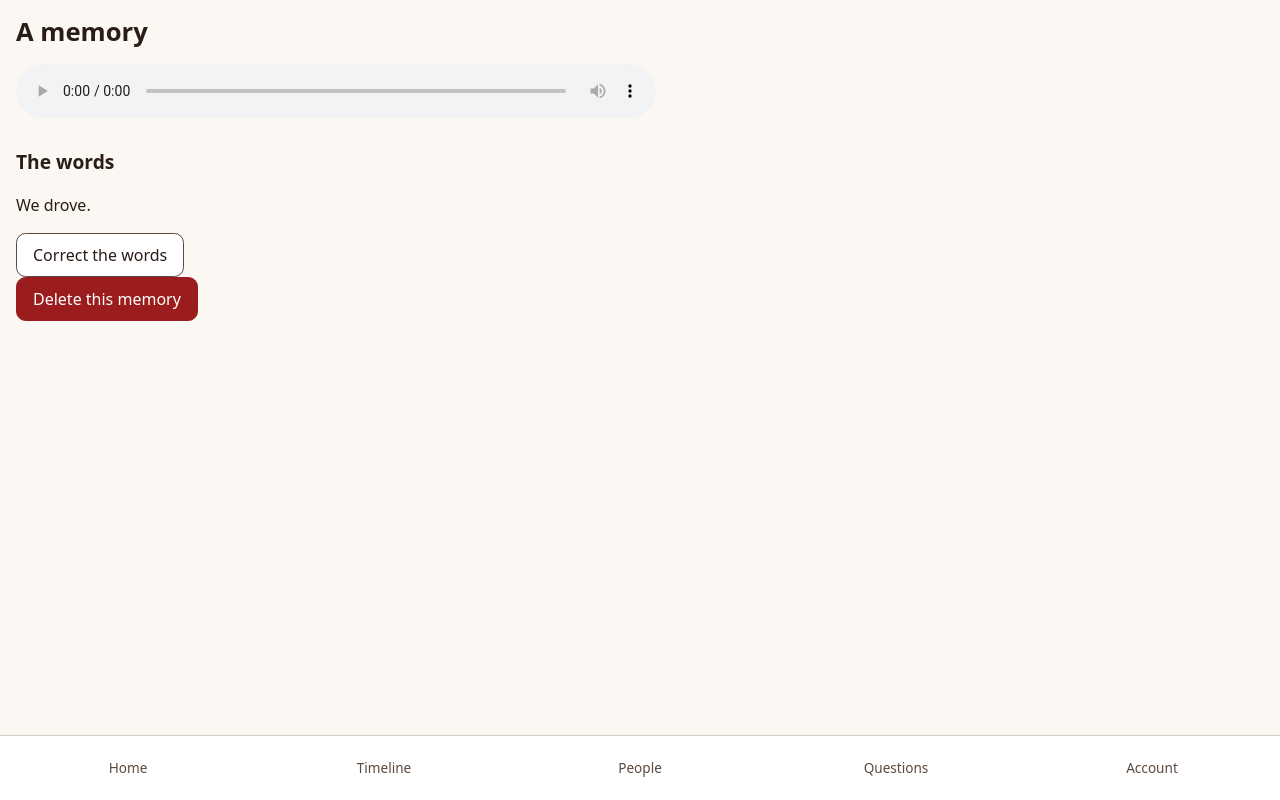
Test: cancelling keeps the memory
Click the button "Delete this memory" at (107, 299), box [16, 277, 198, 321]
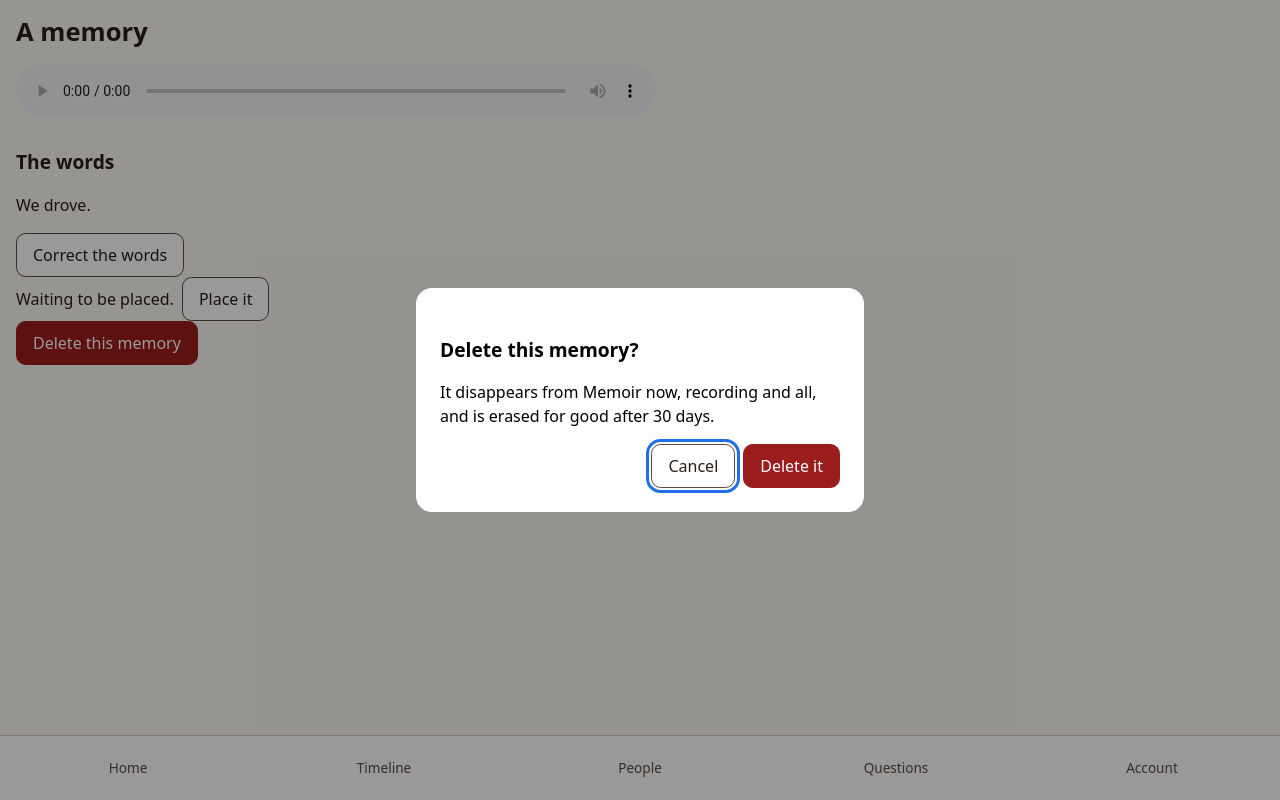
Click the button "Cancel" at (693, 466), box [652, 444, 735, 488]
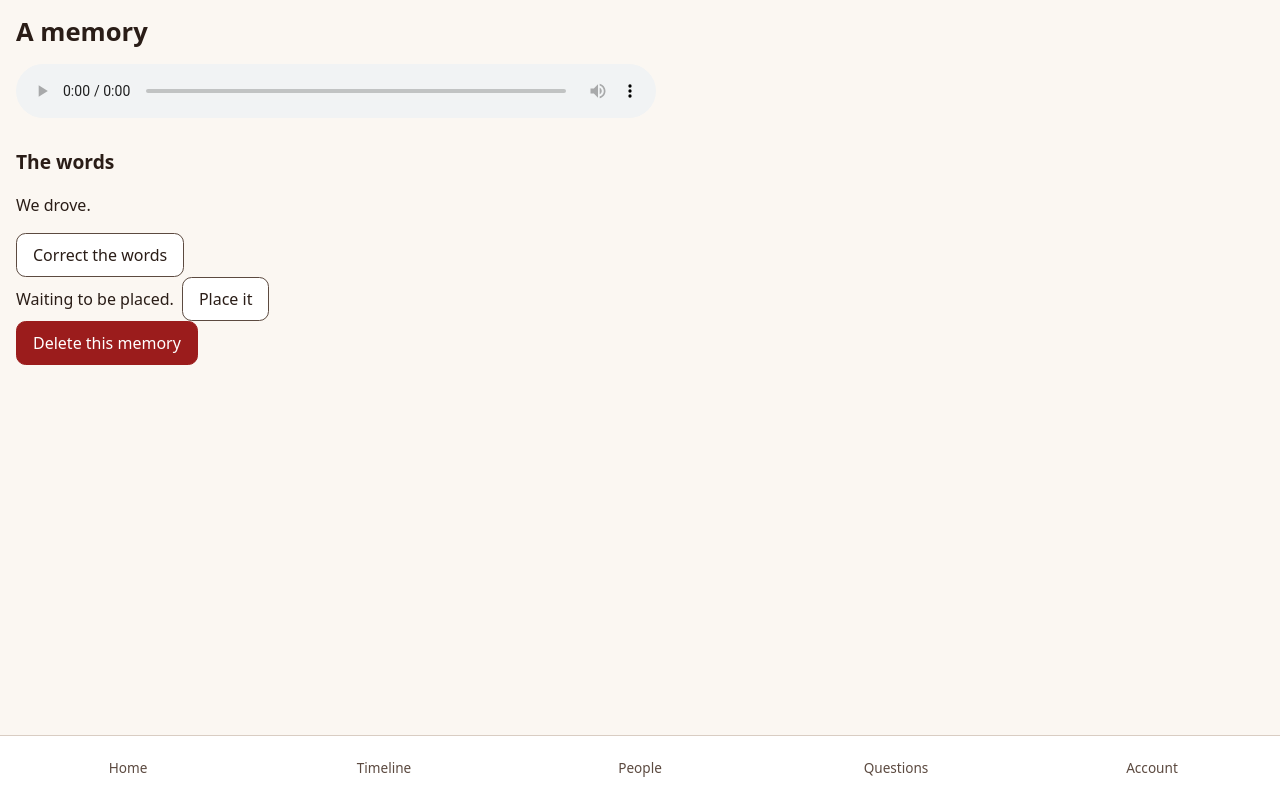
Expected: the dialog is gone
